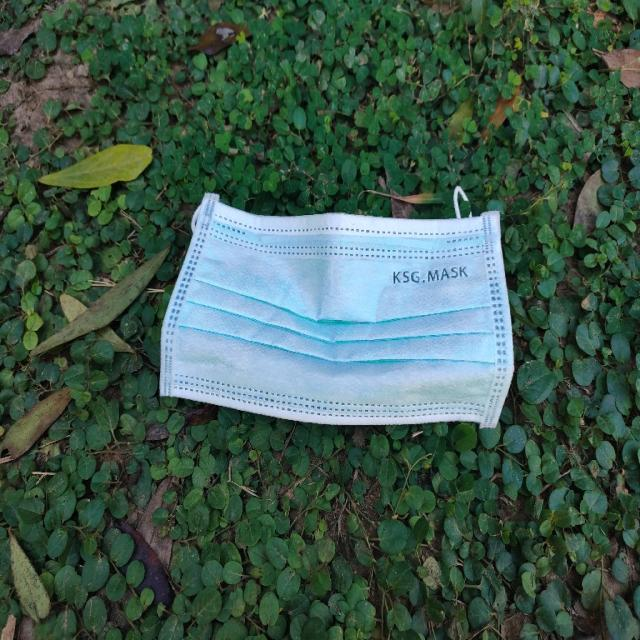non-organic waste: (157, 169, 519, 433)
